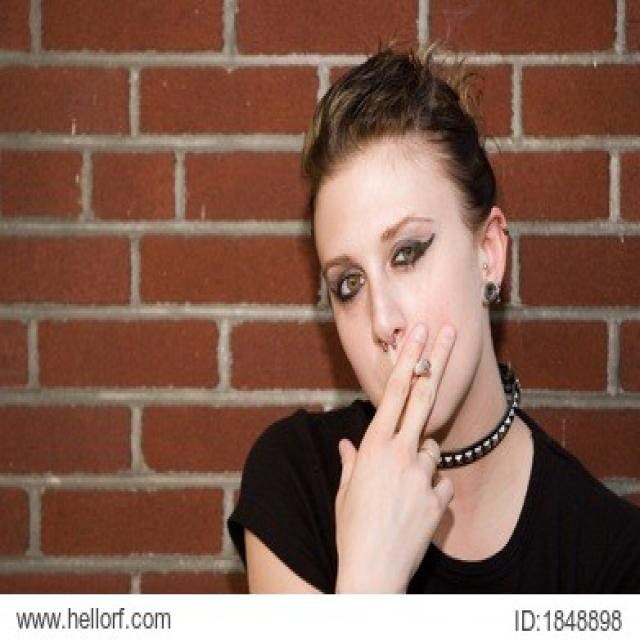smoke: (416, 359, 435, 380)
